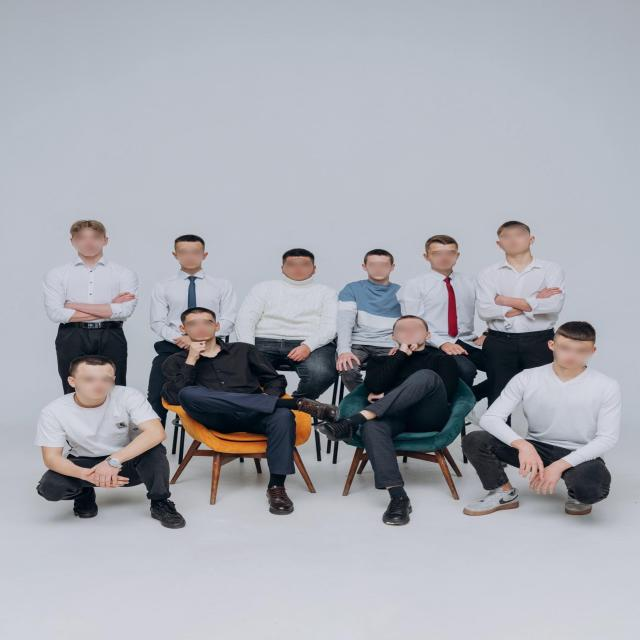Person: (150, 314, 326, 535), (318, 307, 479, 544), (461, 313, 629, 539), (11, 357, 179, 538), (478, 216, 577, 377), (40, 210, 143, 364), (250, 242, 346, 406), (408, 227, 492, 367), (150, 227, 239, 350), (338, 242, 407, 371)
